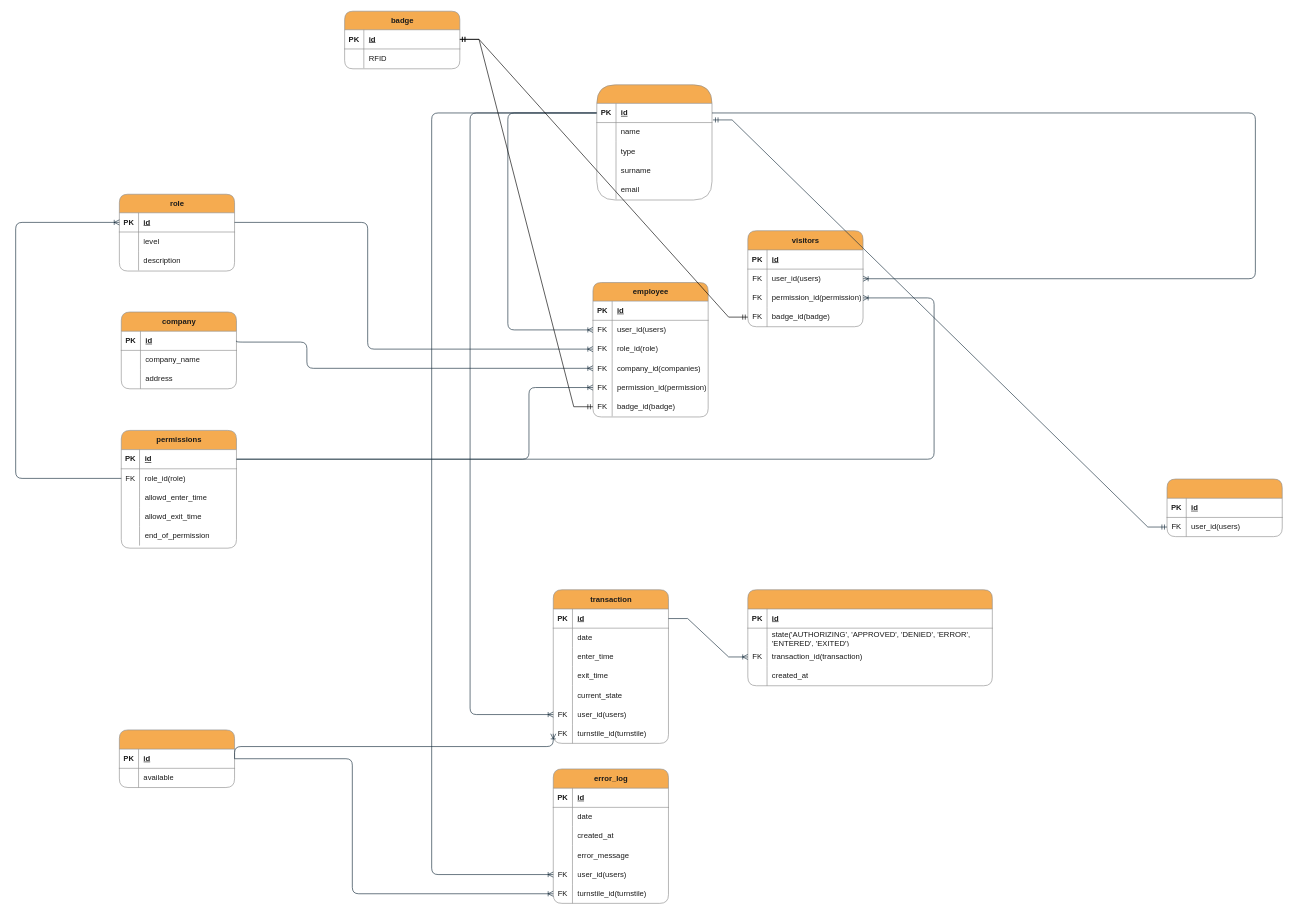
This 1293x915 diagram has some shape labels left out. Each missing label, with the box of its shape:
inside_office: (1166, 478, 1282, 537)
transaction_event: (747, 589, 992, 686)
turnstile: (119, 729, 235, 788)
users: (596, 84, 712, 200)
